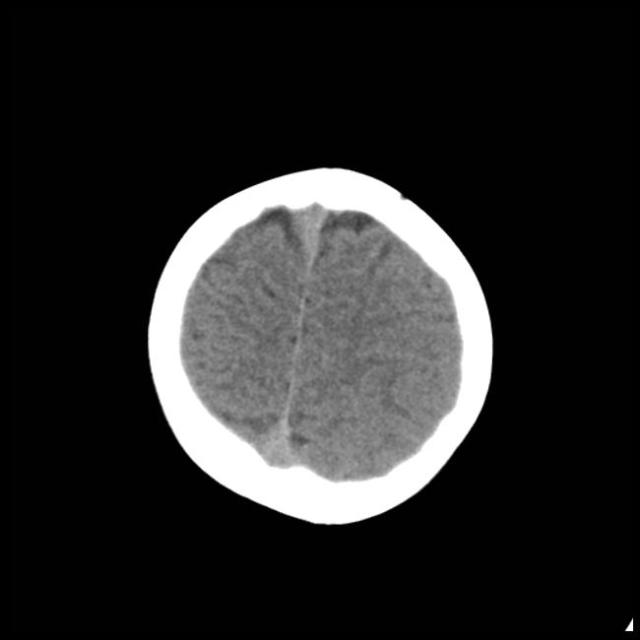lesion: (142, 161, 499, 528)
